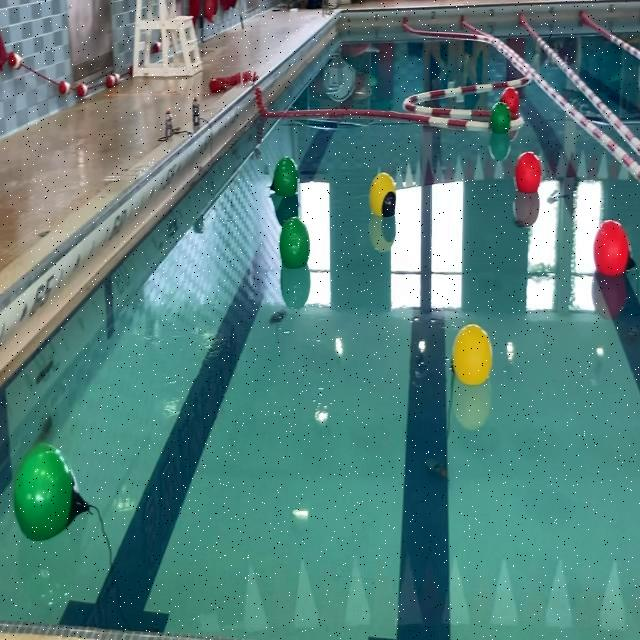buoy: (14, 442, 90, 542), (450, 322, 492, 390), (594, 219, 635, 278), (279, 217, 309, 270), (517, 150, 543, 197), (269, 156, 298, 198), (370, 174, 396, 218), (487, 101, 512, 135), (499, 89, 522, 118)
